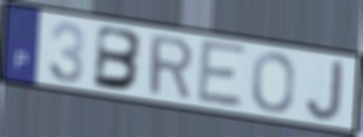3: (47, 20, 86, 84)
B: (90, 23, 146, 93)
E: (195, 36, 248, 110)
J: (304, 58, 346, 123)
O: (250, 50, 298, 114)
R: (147, 32, 195, 102)
